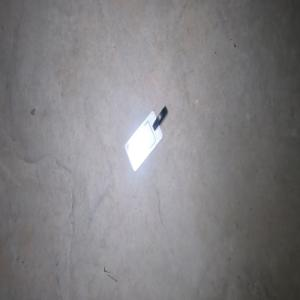LuggageTag: (123, 104, 168, 173)
